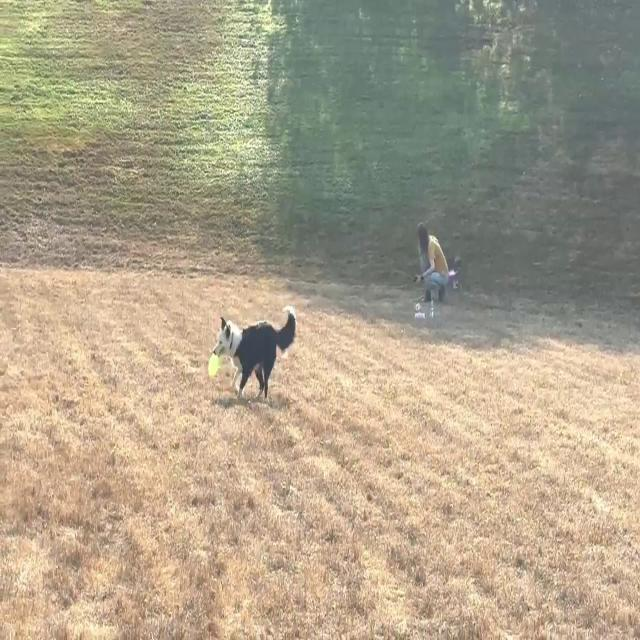Dog: (213, 306, 296, 408)
